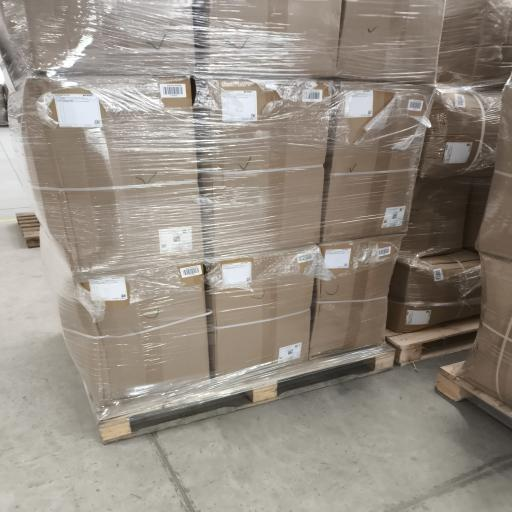pallet: (99, 344, 394, 443), (436, 362, 511, 428), (386, 316, 479, 365), (16, 213, 40, 248)
